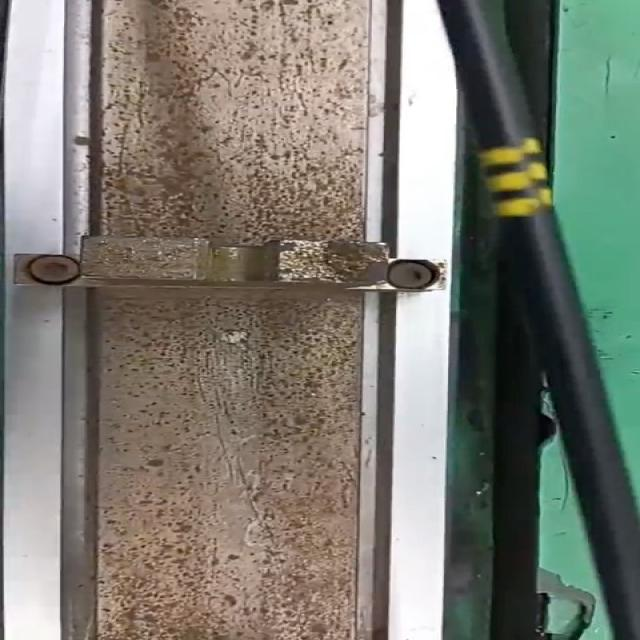yellow: (480, 145, 554, 214)
